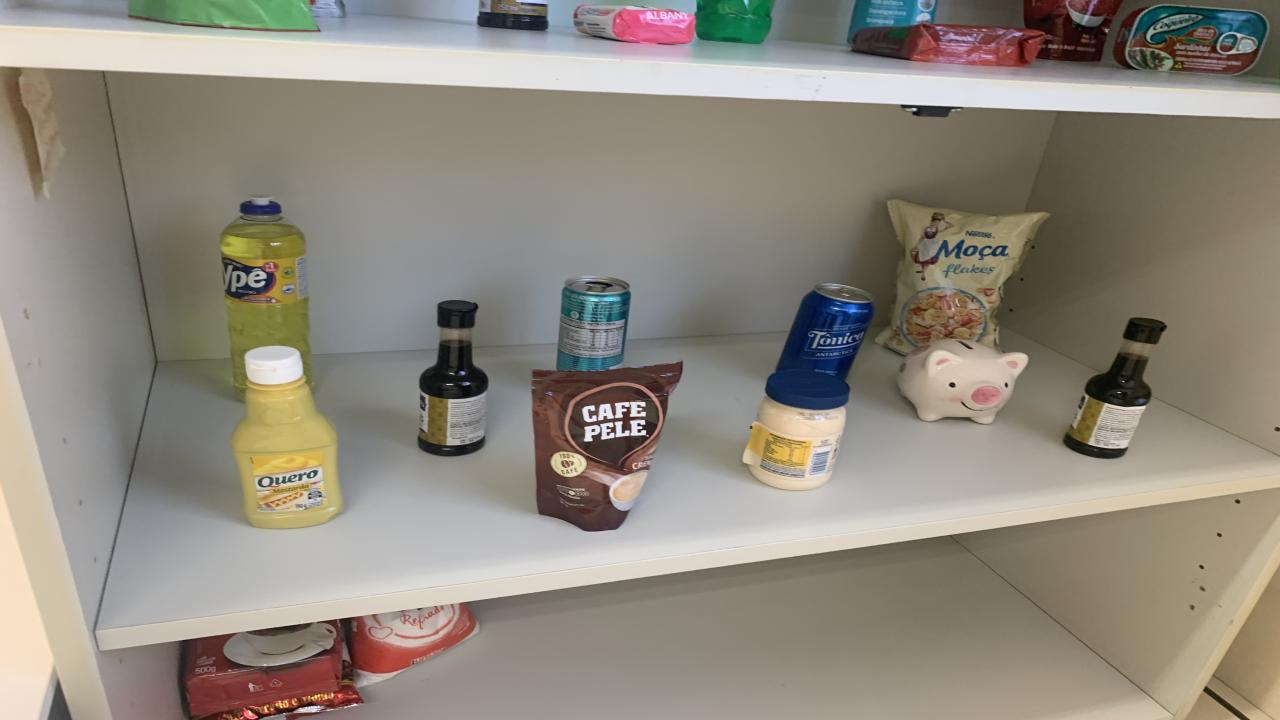Cleaner-Cleanup_Items: (848, 0, 938, 43)
Coffee-Pantry_Items: (532, 362, 682, 531)
Detergent-Cleanup_Items: (220, 197, 310, 394), (695, 0, 775, 43)
English_Sauce-Pantry_Items: (1062, 317, 1165, 458), (418, 300, 488, 456), (478, 0, 548, 30)
Flakes-Snacks: (878, 201, 1048, 352)
Guava-Snacks: (852, 22, 1045, 68)
Mayonnaise-Pantry_Items: (742, 369, 850, 489)
Mustard-Pantry_Items: (230, 345, 342, 529)
Pig_Safe-Miscellaneous: (898, 339, 1028, 424)
Soap-Cleanup_Items: (572, 4, 695, 45)
Tea-Drinks: (558, 276, 630, 371)
Tomato_Sauce-Pantry_Items: (128, 0, 320, 32), (1025, 0, 1120, 62)
Tonic-Drinks: (778, 283, 872, 381)
Tuna_Can-Pantry_Items: (1112, 4, 1270, 75)
